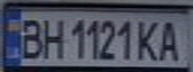1: (115, 16, 136, 61), (66, 16, 87, 60), (81, 16, 100, 60)
2: (100, 16, 118, 60)
A: (154, 17, 184, 62)
B: (15, 15, 45, 61)
H: (36, 15, 66, 60)
K: (136, 17, 163, 62)
